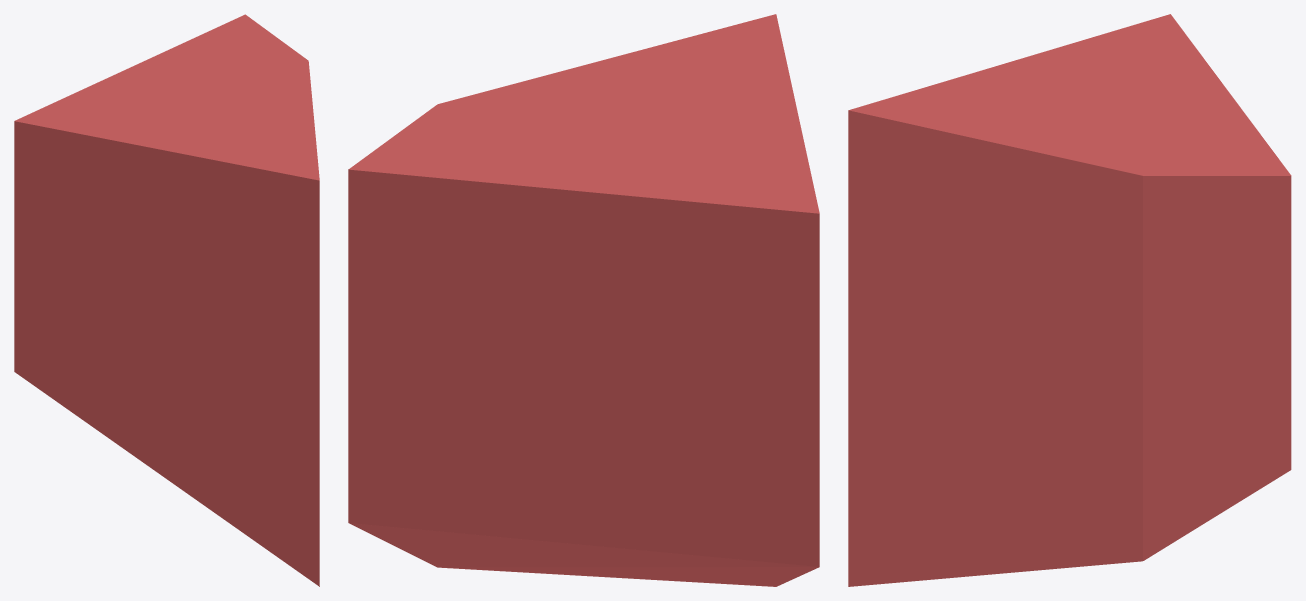
The picture shows the model from 3 angles, left to right: view 1: azimuth 30°, elevation 25°; view 2: azimuth 150°, elevation 25°; view 3: azimuth 270°, elevation 25°; orthographic projection. The views are drawn at different scales.
Visible parts, largest first — view 1: kb3_j_col; view 2: kb3_j_col; view 3: kb3_j_col.
Boxes of the visible parts, left/top/right/bottom form: kb3_j_col: left=14, top=14, right=319, bottom=586; kb3_j_col: left=348, top=14, right=819, bottom=586; kb3_j_col: left=848, top=14, right=1291, bottom=586.
Bounding box in the file's own units: 1.9 × 2.61 × 2.2.
